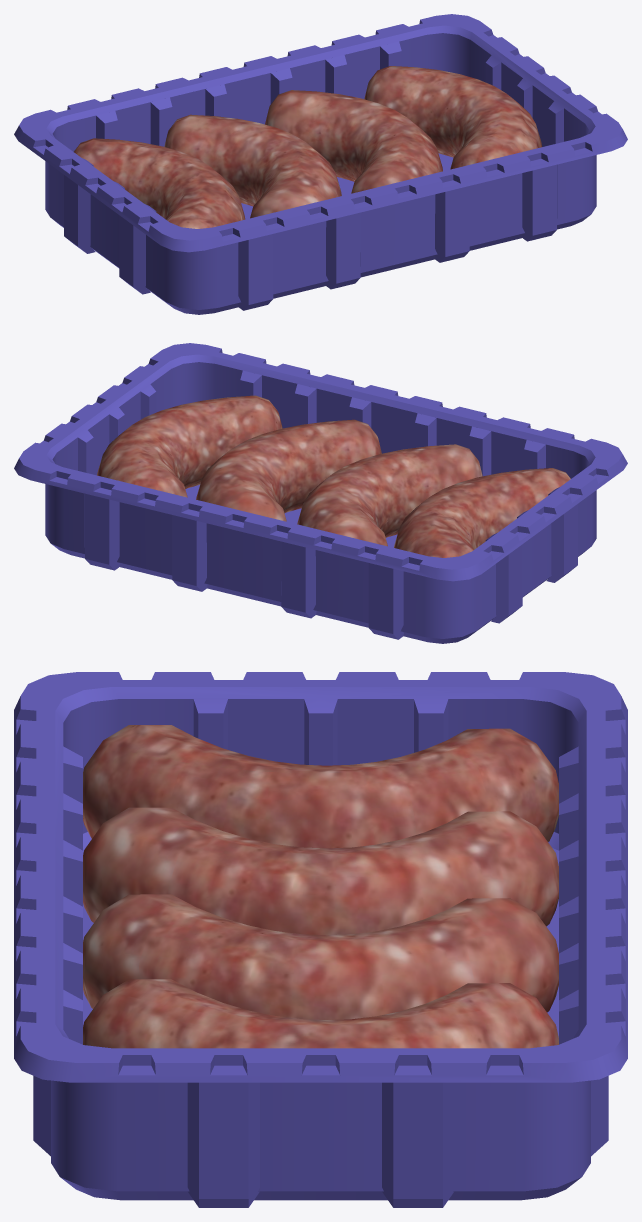
File: Sausages_Barbecue.glb
3 renders of one model, top to bottom at view 1: azimuth 30°, elevation 25°; view 2: azimuth 150°, elevation 25°; view 3: azimuth 270°, elevation 25°, orthographic. The views are drawn at different scales.
Parts seen in each view (by area): view 1: Sausages_Barbecue Tray, Sausages_Barbecue; view 2: Sausages_Barbecue Tray, Sausages_Barbecue; view 3: Sausages_Barbecue Tray, Sausages_Barbecue.
Boxes of the visible parts, x1,y1,x2,y2 form: Sausages_Barbecue Tray: (14,14,627,314); Sausages_Barbecue: (74,66,541,228); Sausages_Barbecue Tray: (14,343,627,643); Sausages_Barbecue: (97,395,570,557); Sausages_Barbecue Tray: (14,672,627,1207); Sausages_Barbecue: (83,725,558,1048).
Size of the model in its own units: 0.2476 by 0.046 by 0.1619.
Materials: 2 (2 with a texture image).
